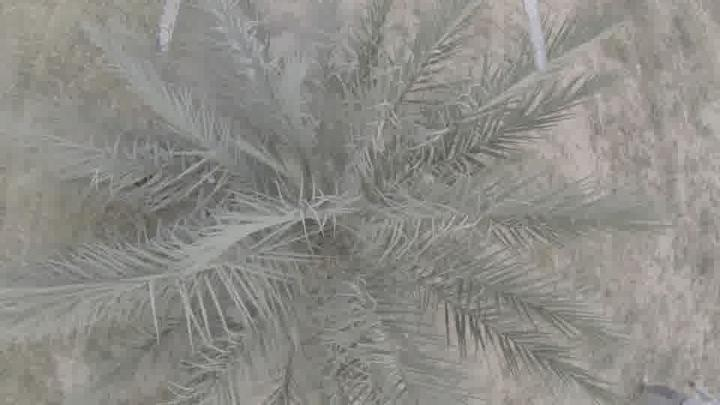Date-Palm-Crown: (131, 53, 503, 369)
